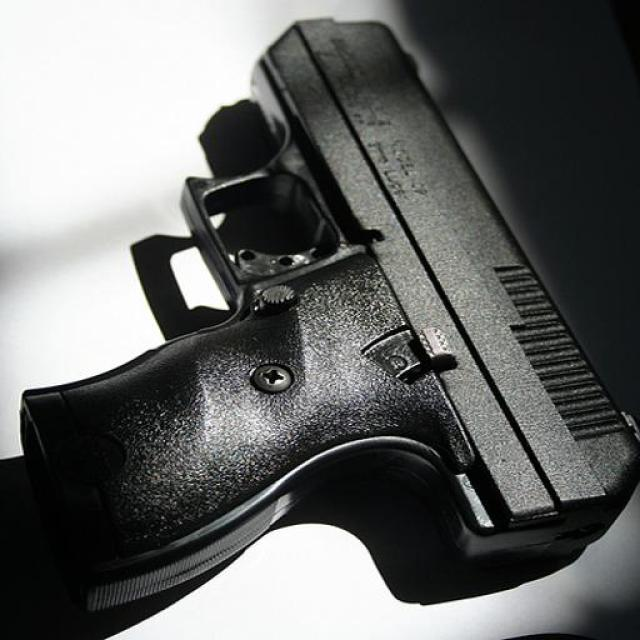pistol: (33, 16, 638, 608)
